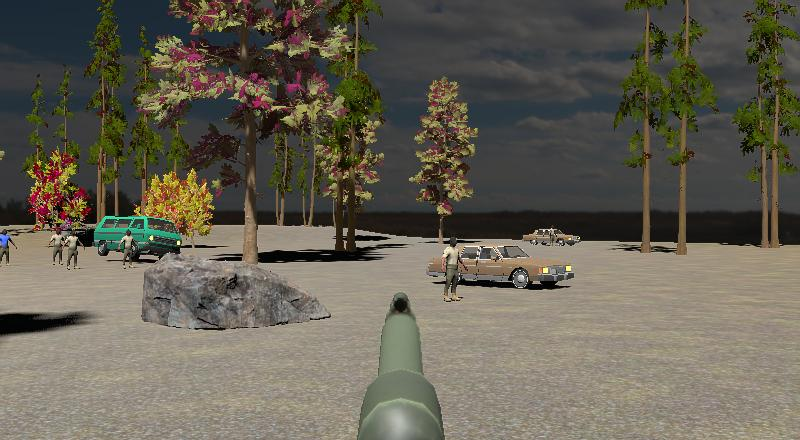Human: (439, 235, 467, 303), (64, 229, 85, 271), (119, 229, 139, 269), (48, 227, 68, 267), (0, 228, 17, 269)
car: (423, 243, 577, 290), (93, 214, 183, 258), (520, 225, 581, 249)
